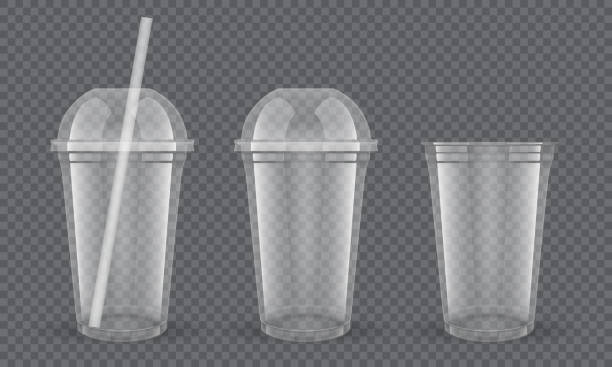plastic_glass: (46, 82, 200, 351), (230, 85, 380, 345), (418, 132, 560, 350)
